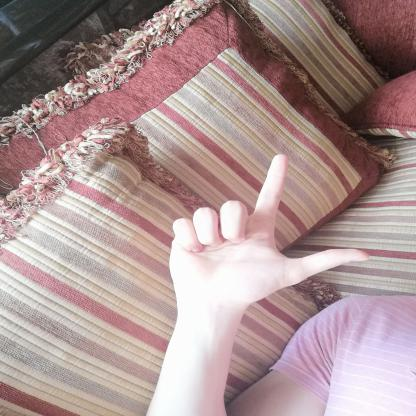LAAM: (153, 145, 382, 319)
